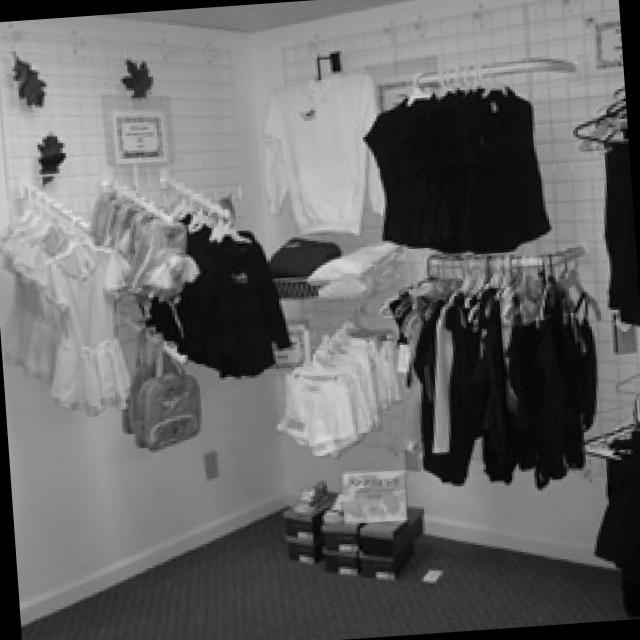boxs: (288, 484, 425, 575)
ceiling beam: (126, 0, 393, 29)
clothes hamper: (393, 275, 602, 483), (4, 219, 136, 409), (155, 214, 296, 374)
clothes washer: (415, 54, 577, 83), (163, 165, 233, 218), (24, 178, 93, 231), (107, 174, 175, 220)
floor -X: (25, 502, 640, 640)
purses: (124, 325, 207, 449)
shirts: (365, 86, 554, 251)
shorts: (277, 332, 402, 453)
sweatshirt crop: (272, 70, 385, 232)
sweatshirts occluded: (307, 239, 407, 295)
trainer: (302, 475, 332, 512)
wall clock: (257, 0, 640, 574), (0, 13, 293, 624)
